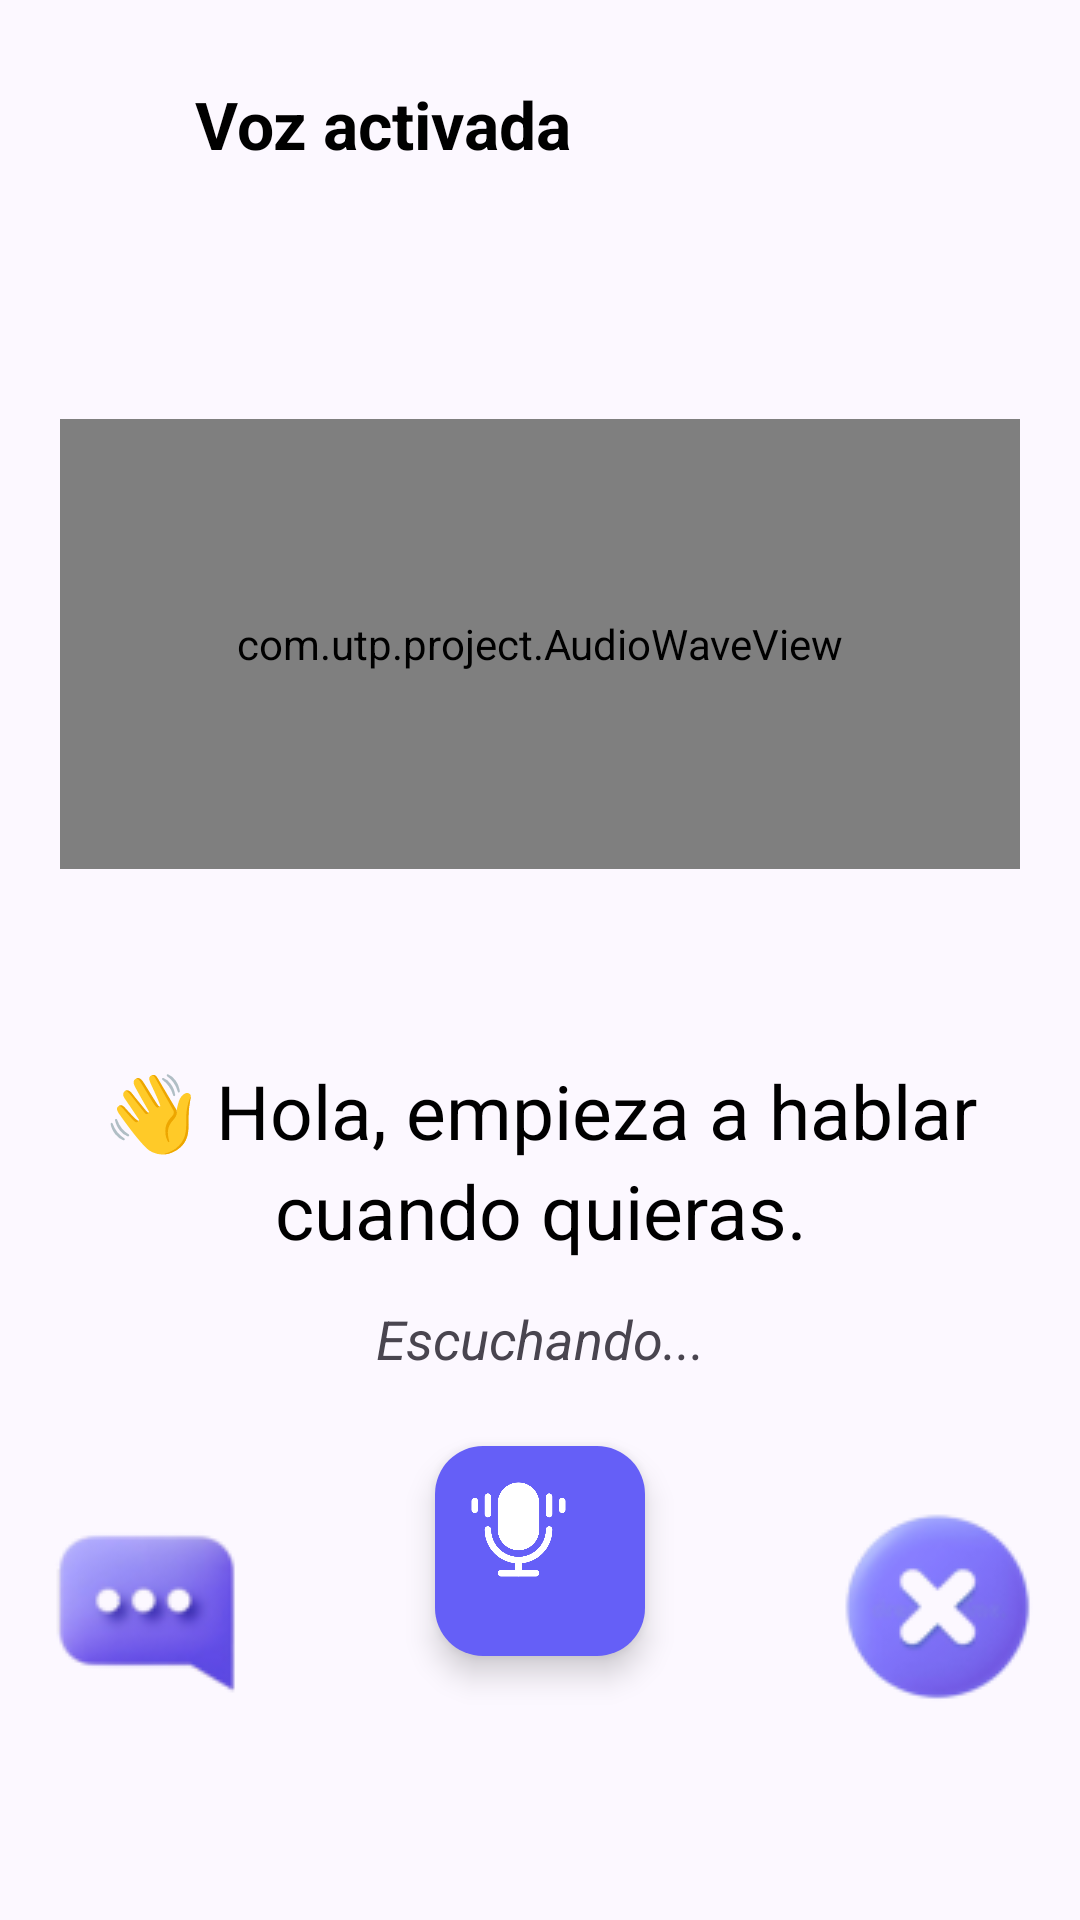

Screen size 1080 x 1920. Icon name, then its box in pixels as [x1=x1, y1=y1, x2=x2, y2=y2]:
close: [x1=846, y1=1515, x2=1030, y2=1699]
mic: [x1=434, y1=1446, x2=646, y2=1671]
